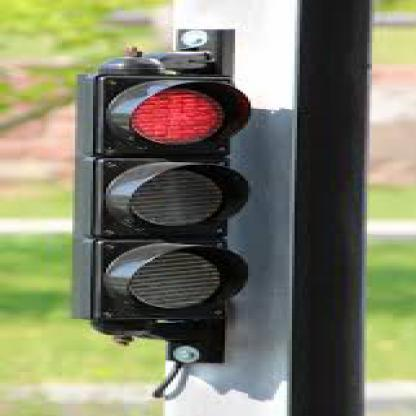red_light: (74, 74, 250, 319)
